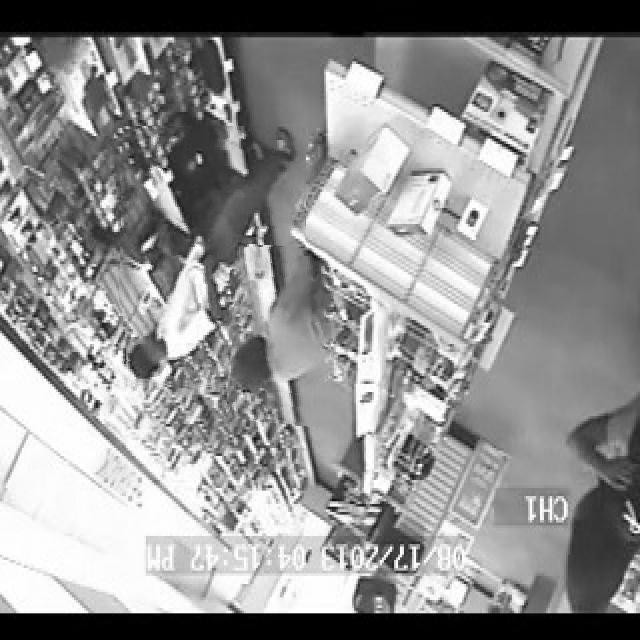Normal: (117, 126, 306, 388), (229, 247, 334, 426)
